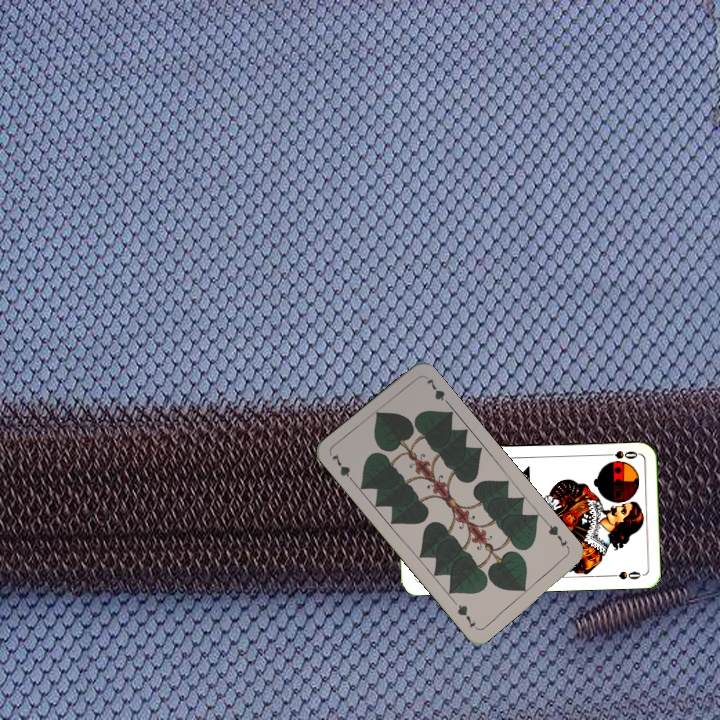G7: (327, 449, 358, 486), (542, 518, 572, 553)
SO: (600, 446, 641, 462)
